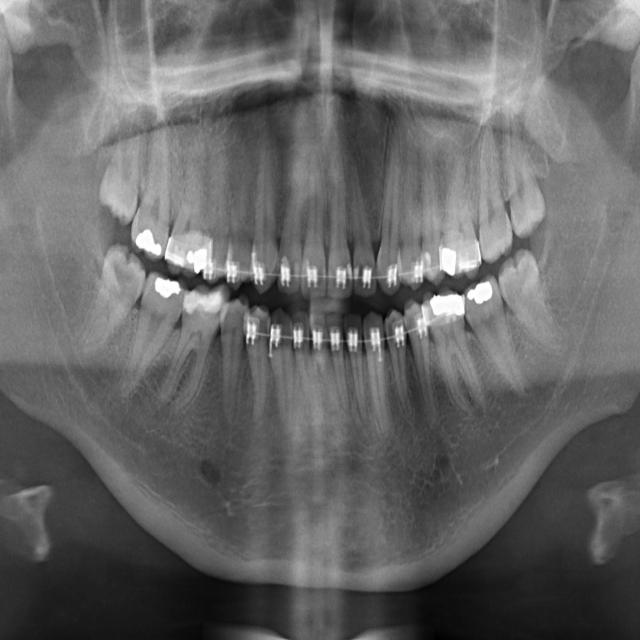AmalgamRestoration: (430, 291, 468, 325), (132, 226, 160, 264), (152, 277, 182, 308), (468, 280, 494, 312), (437, 244, 460, 277)
CompositeResinRestoration: (185, 283, 222, 318), (421, 246, 434, 278), (292, 250, 302, 290), (302, 257, 312, 291), (353, 257, 361, 284), (346, 256, 352, 286)
DentalCaries: (182, 305, 197, 351), (205, 304, 221, 341)
